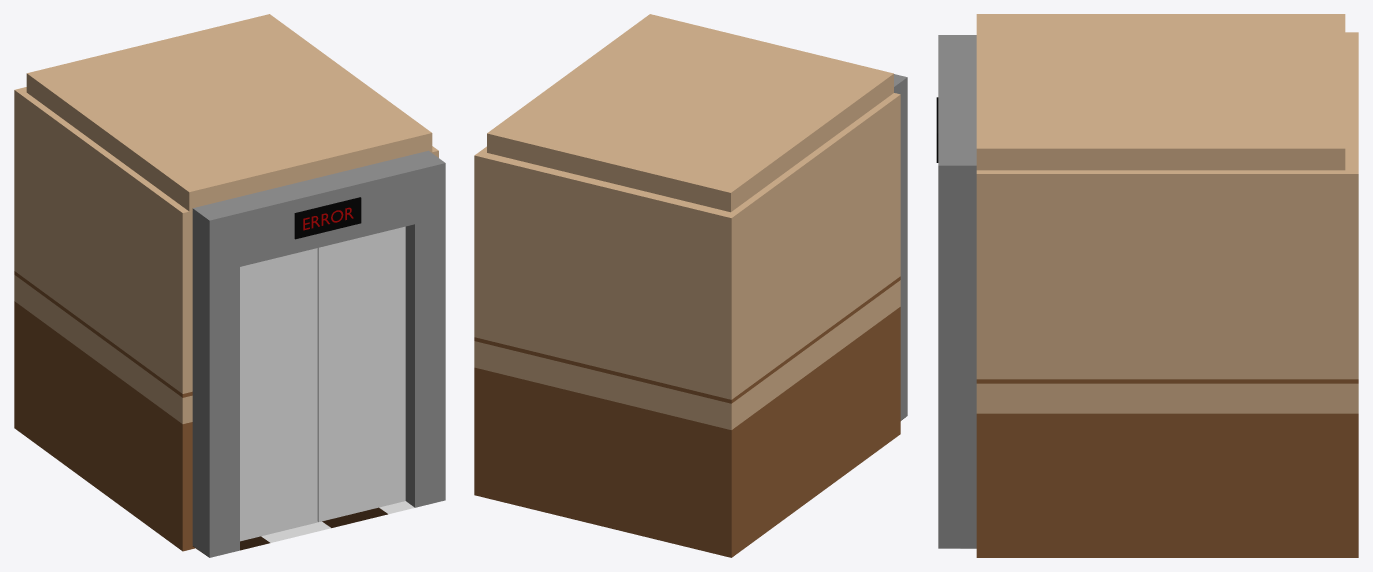
File: Elevador.fbx
3 views of the same model, side by side, from view 1: azimuth 30°, elevation 25°; view 2: azimuth 150°, elevation 25°; view 3: azimuth 270°, elevation 25° (orthographic). The views are drawn at different scales.
Parts seen in each view (by area): view 1: parede.001, teto, entrada, porta.001, porta, parede.002, sinalizador de andar, chao; view 2: parede.002, parede.001, teto, entrada; view 3: parede, teto, entrada, parede.002.
Boxes of the visible parts, box(x1,y1,x2,y2) form: parede.001: box(22, 94, 194, 551); teto: box(26, 14, 432, 211); entrada: box(192, 150, 445, 557); porta.001: box(317, 226, 405, 522); porta: box(240, 248, 317, 541); parede.002: box(14, 87, 28, 433); sinalizador de andar: box(294, 197, 361, 239); chao: box(192, 501, 414, 555); parede.002: box(474, 149, 739, 557); parede.001: box(733, 93, 900, 551); teto: box(487, 14, 893, 212); entrada: box(894, 74, 907, 420); parede: box(976, 170, 1340, 557); teto: box(976, 14, 1345, 170); entrada: box(938, 35, 976, 548); parede.002: box(1340, 32, 1358, 557).
Bounding box in the file's own units: 1151 × 1536 × 1450.
